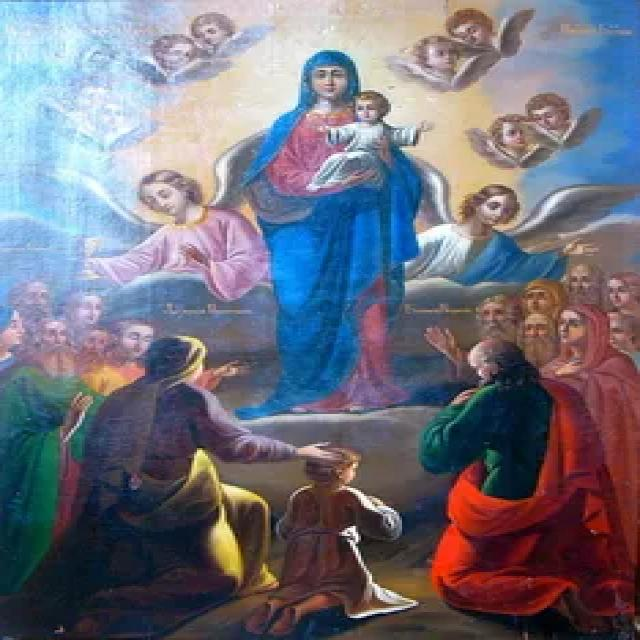mother of god: (239, 40, 444, 413)
